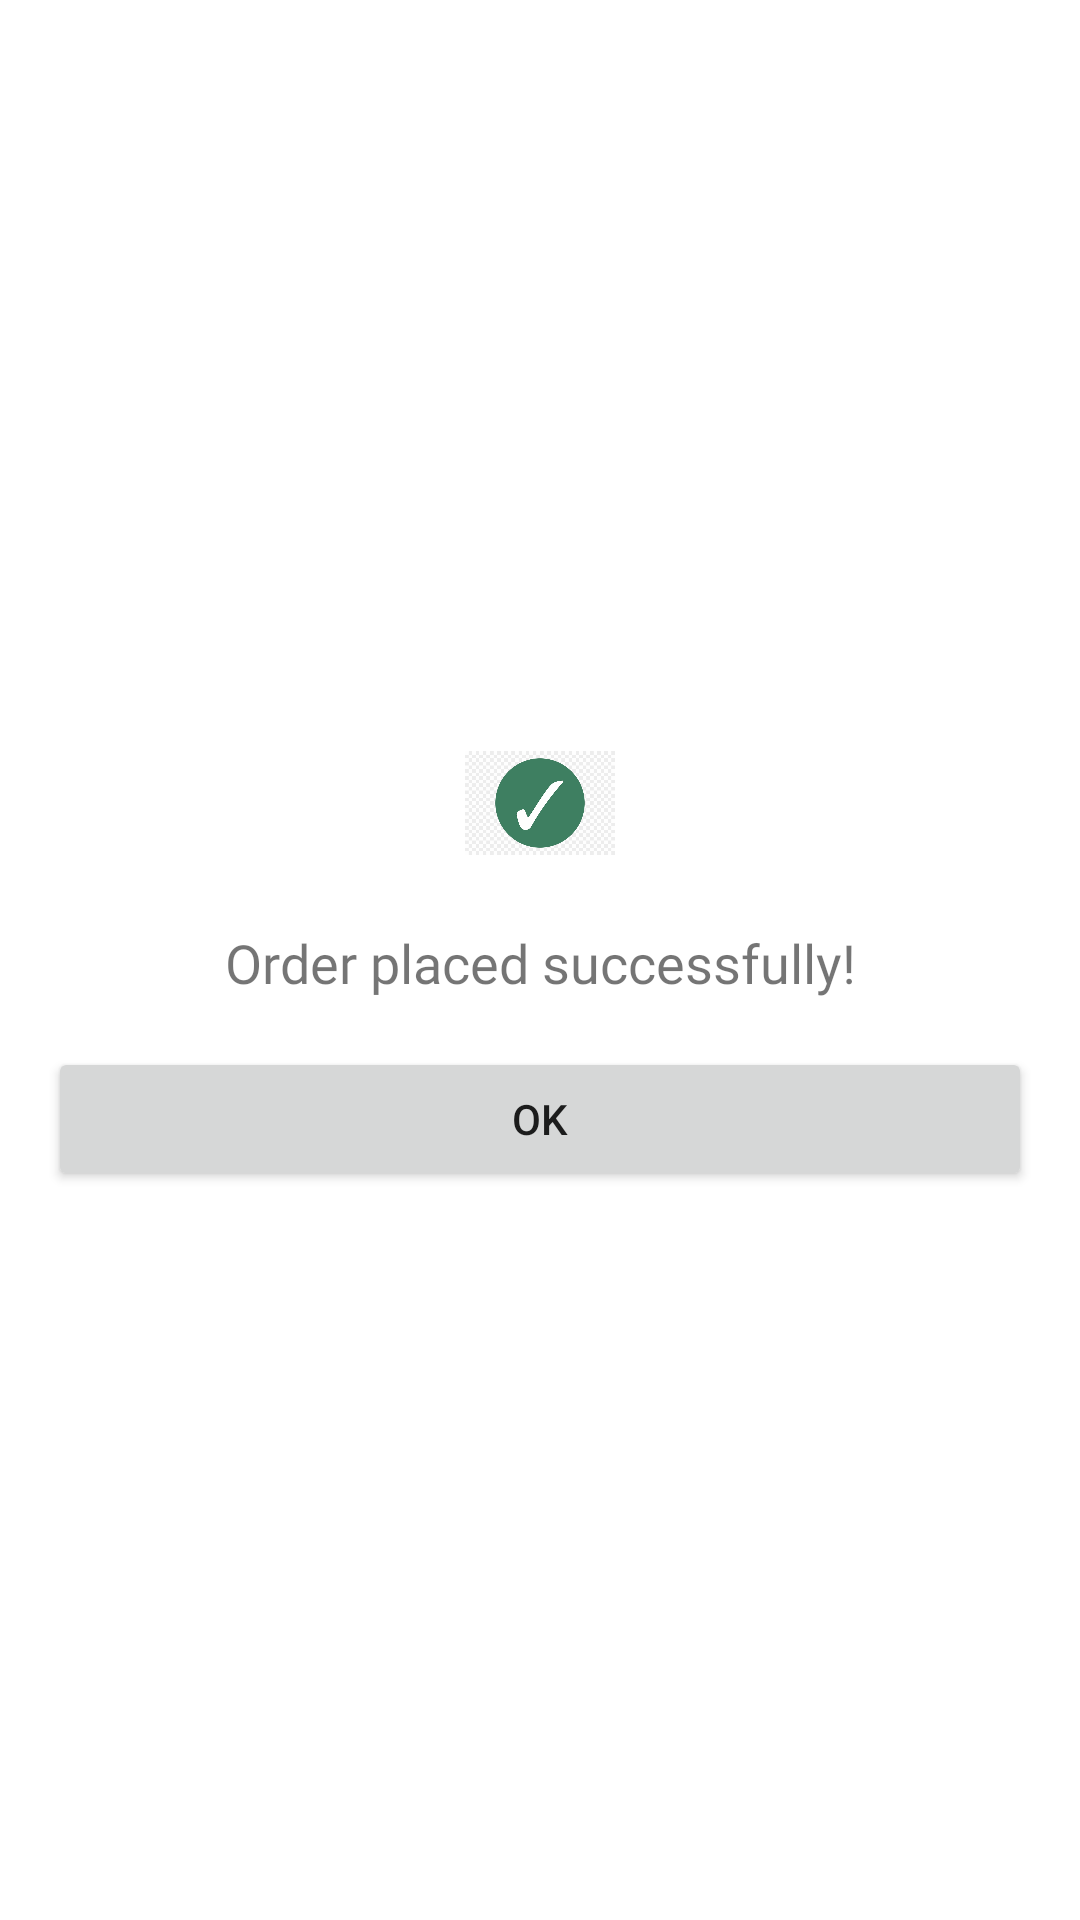

Named icons in this screenshot (1080px×1920px) and their centers, (x=x, y=y):
check circle: (x=540, y=803)
